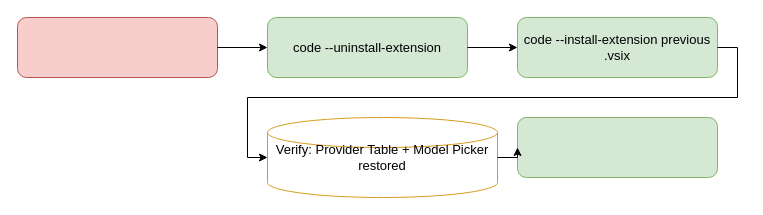
Some shapes in this 763 by 215 pixel diagram are drawn without their labels. Each missing label, with the centre of its shape:
"Detect UI regression" goes at pixel 117 47.
"Rollback Complete (previous UI version)" goes at pixel 617 147.
